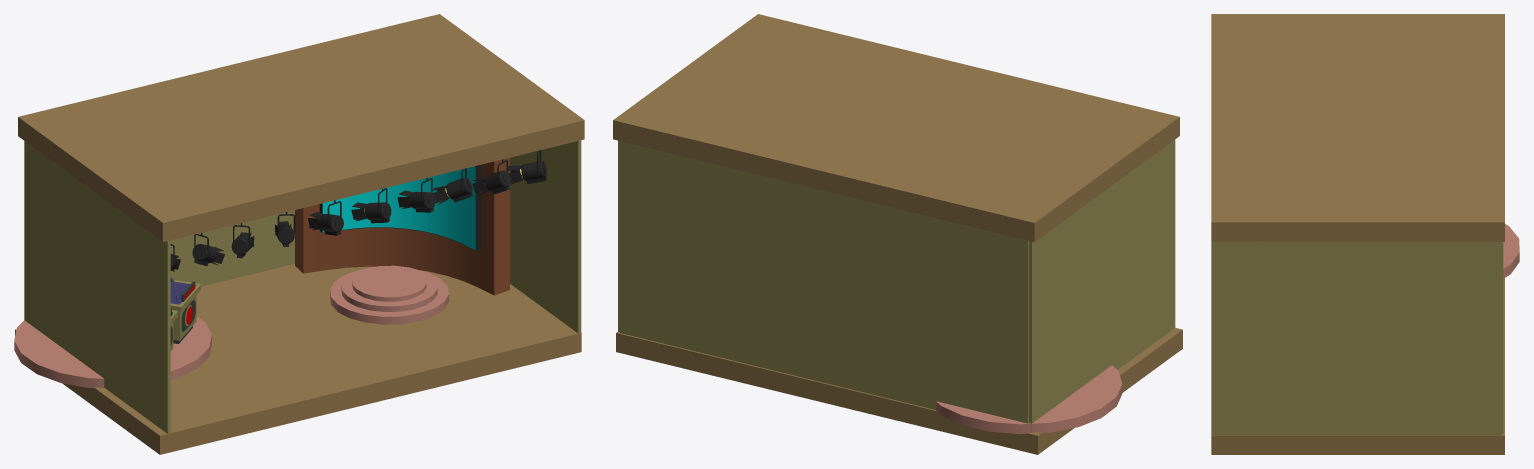
File: Hub.fbx
3 renders of one model, left to right at view 1: azimuth 30°, elevation 25°; view 2: azimuth 150°, elevation 25°; view 3: azimuth 270°, elevation 25°, orthographic.
Parts seen in each view (by area): view 1: Stage_StageLight_Medium12; view 2: Stage_StageLight_Medium12; view 3: Stage_StageLight_Medium12.
Part boxes in pixels (x1,y1,x2,y2): Stage_StageLight_Medium12: (14, 14, 584, 454); Stage_StageLight_Medium12: (613, 14, 1182, 454); Stage_StageLight_Medium12: (1211, 14, 1519, 454).
Size of the model in its own units: 1533 by 747 by 892.
